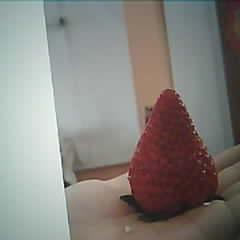straw-ripe: (127, 87, 218, 212)
